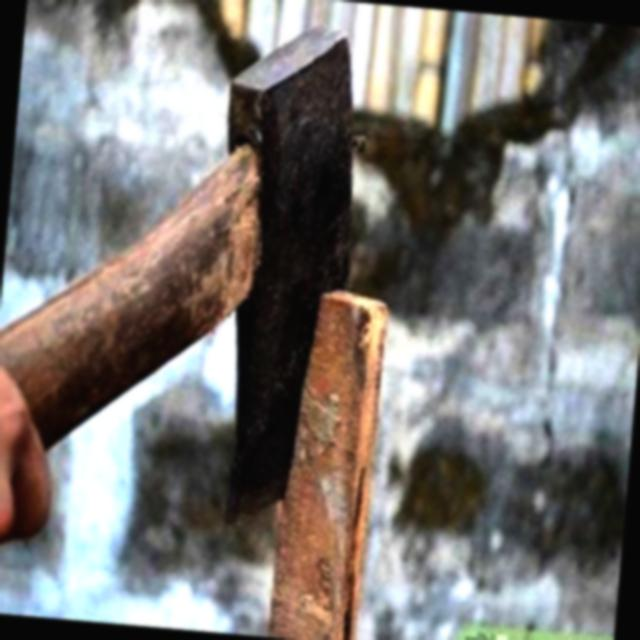ax: (0, 0, 384, 544)
